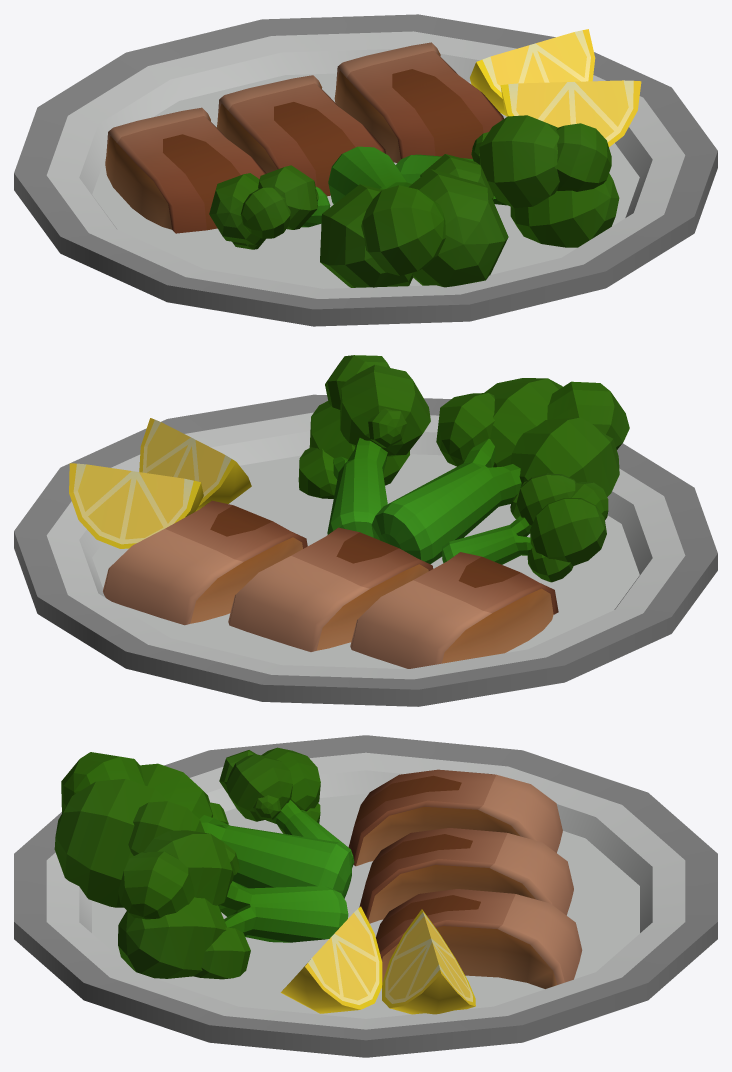
The model's file is Product Panfried Fish.fbx.
3 views of the same model, one above another, from view 1: azimuth 30°, elevation 25°; view 2: azimuth 150°, elevation 25°; view 3: azimuth 270°, elevation 25° (orthographic). The views are drawn at different scales.
Visible parts, largest first — view 1: Product_Panfried_Fish; view 2: Product_Panfried_Fish; view 3: Product_Panfried_Fish.
Boxes of the visible parts, x1,y1,x2,y2 form: Product_Panfried_Fish: [14, 14, 717, 326]; Product_Panfried_Fish: [14, 355, 717, 706]; Product_Panfried_Fish: [14, 735, 717, 1057].
Bounding box in the file's own units: 164 × 34.65 × 160.
